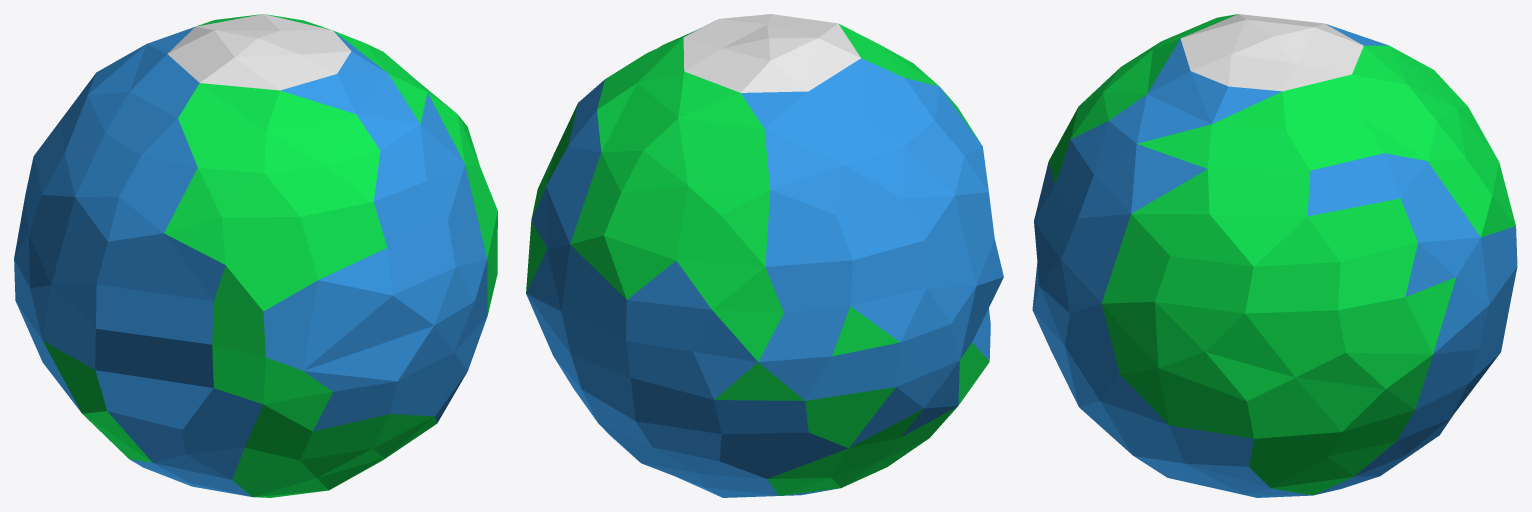
The model's file is earth.gltf.
3 views of the same model, side by side, from view 1: azimuth 30°, elevation 25°; view 2: azimuth 150°, elevation 25°; view 3: azimuth 270°, elevation 25° (orthographic).
Visible parts, largest first — view 1: Sphere; view 2: Sphere; view 3: Sphere.
Boxes of the visible parts, <box> form: Sphere: <box>14,14,497,497</box>; Sphere: <box>526,14,1003,497</box>; Sphere: <box>1032,14,1517,497</box>.
Size of the model in its own units: 1.98 by 2 by 2.
